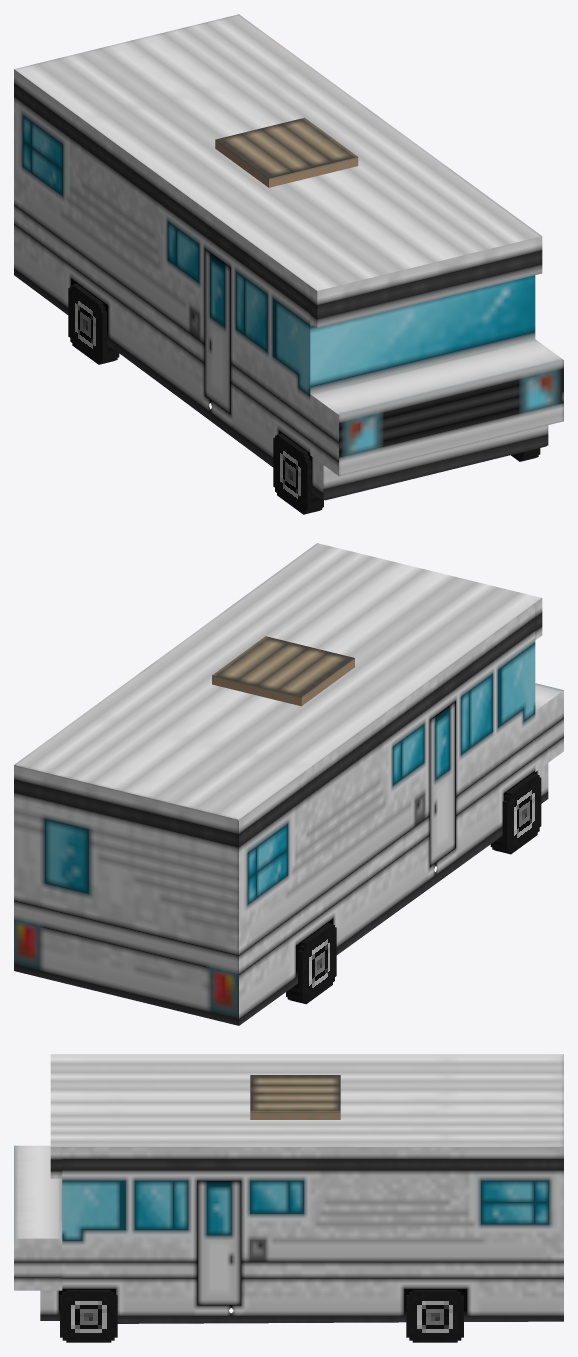
The model's file is BGN_RV.fbx.
3 views of the same model, one above another, from view 1: azimuth 30°, elevation 25°; view 2: azimuth 150°, elevation 25°; view 3: azimuth 270°, elevation 25° (orthographic). The views are drawn at different scales.
Parts seen in each view (by area): view 1: BGN_RV, R_R__3_, R_R__4_; view 2: BGN_RV, R_R__3_, R_R__4_; view 3: BGN_RV, R_R__1_, R_R__2_.
Boxes of the visible parts, box(x1,y1,x2,y2) form: BGN_RV: box(14, 14, 563, 500); R_R__3_: box(273, 433, 323, 514); R_R__4_: box(68, 283, 119, 364); BGN_RV: box(14, 543, 563, 1025); R_R__3_: box(490, 773, 541, 854); R_R__4_: box(286, 923, 336, 1004); BGN_RV: box(14, 1054, 563, 1323); R_R__1_: box(60, 1290, 117, 1342); R_R__2_: box(406, 1290, 463, 1342).
Size of the model in its own units: 224 by 219 by 541.
